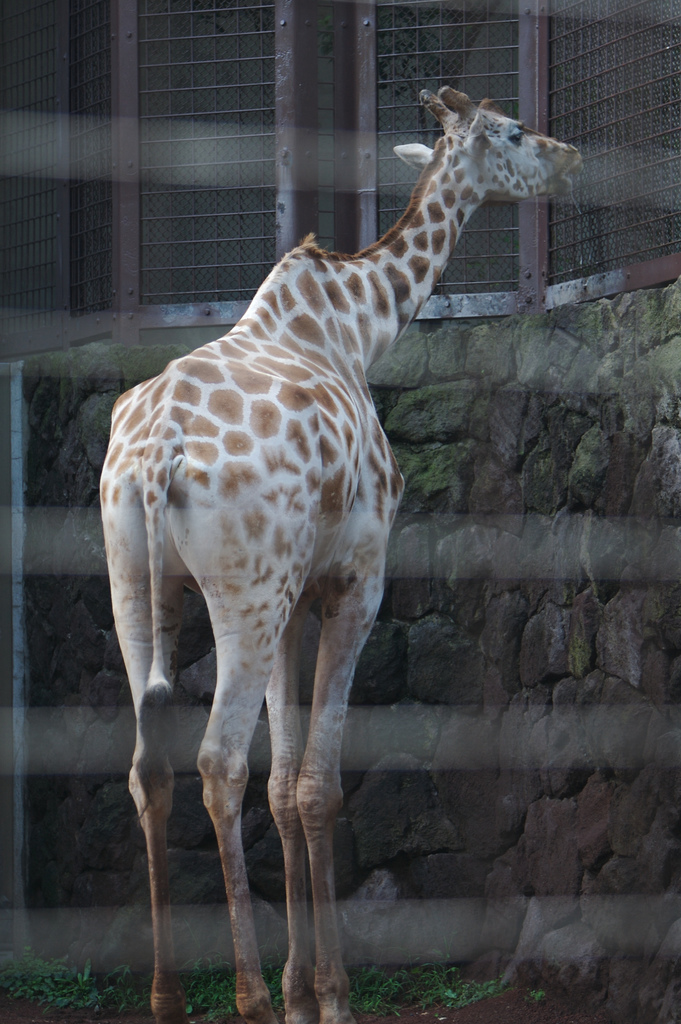giraffe: (76, 81, 577, 955)
